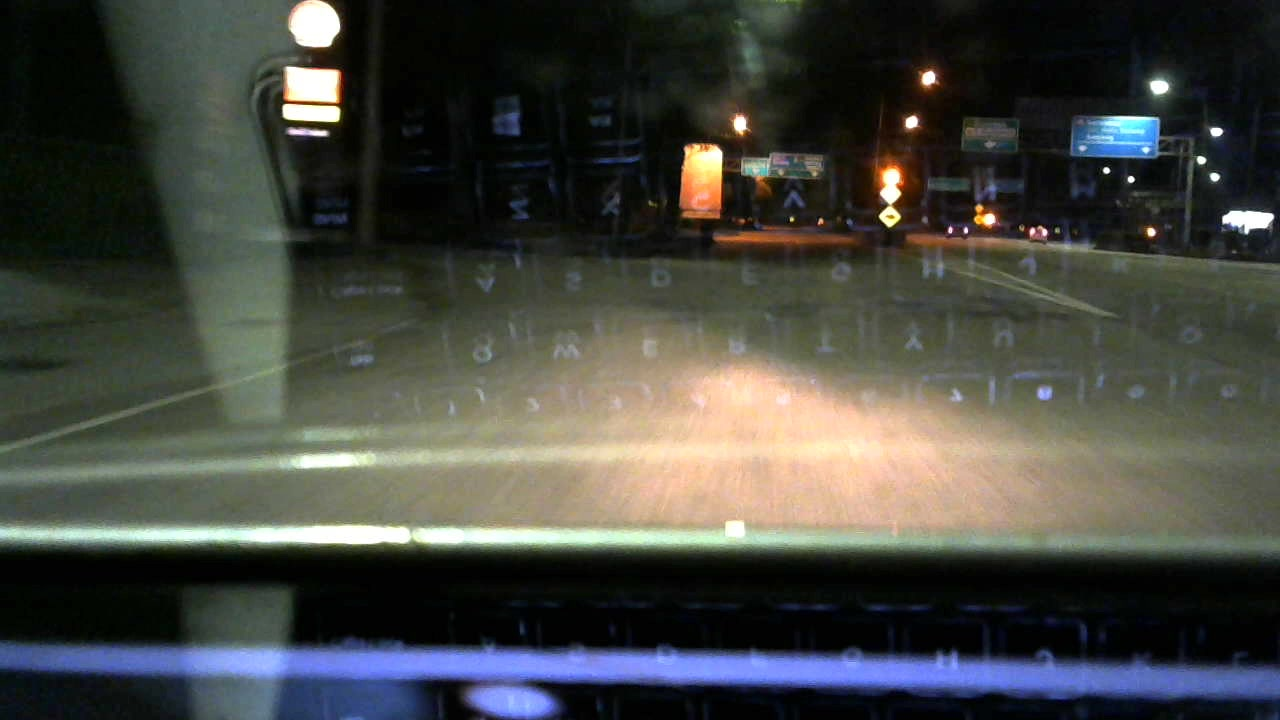Car: (1018, 219, 1059, 244), (934, 216, 974, 240)
